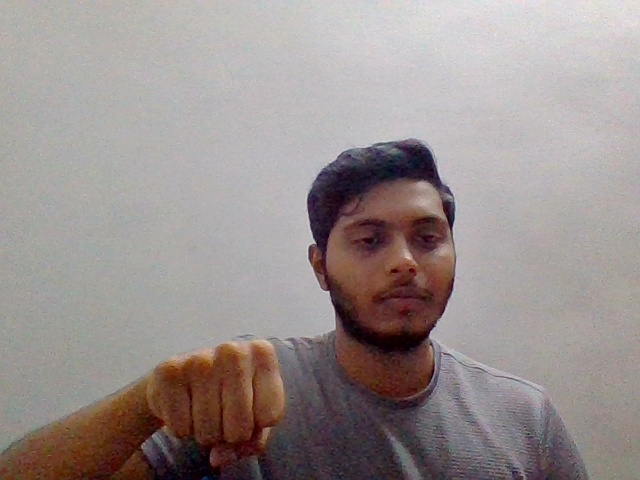Yes: (136, 335, 292, 469)
